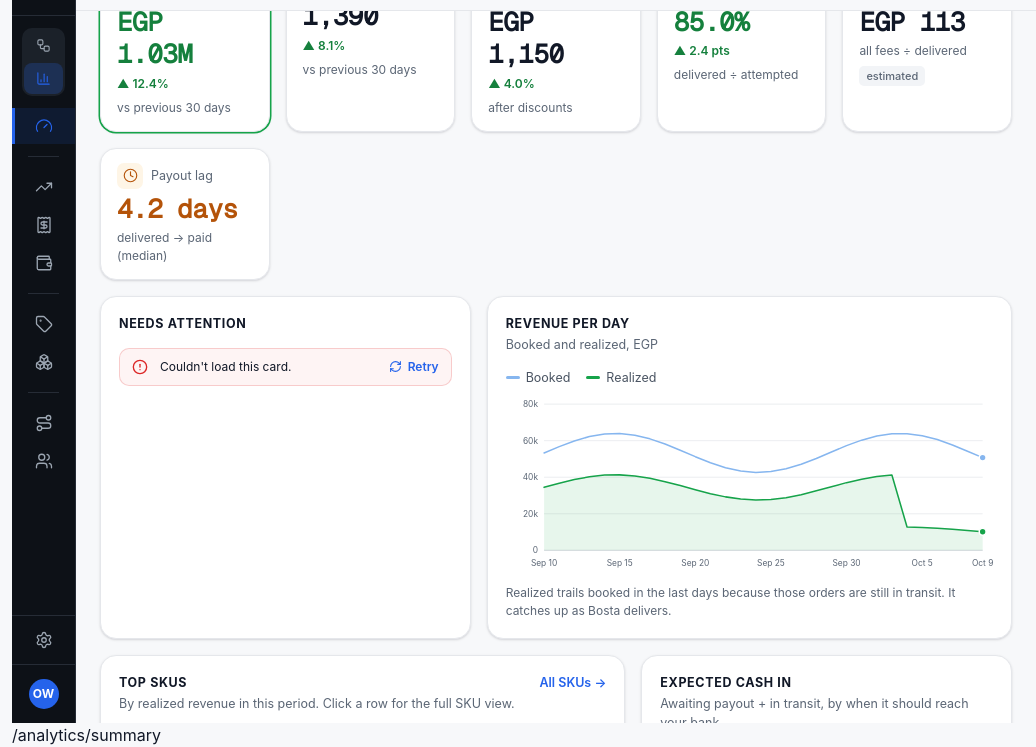
Test: summary — merchant types › m3 — one failing endpoint shows a retry on its own card only; retry recovers it
(page scrolled)
Expected: the message "Couldn't load this card. Retry" is shown, [119,348,452,386]
Click the button "Retry".
click(414, 367)  # box [389,359,439,375]
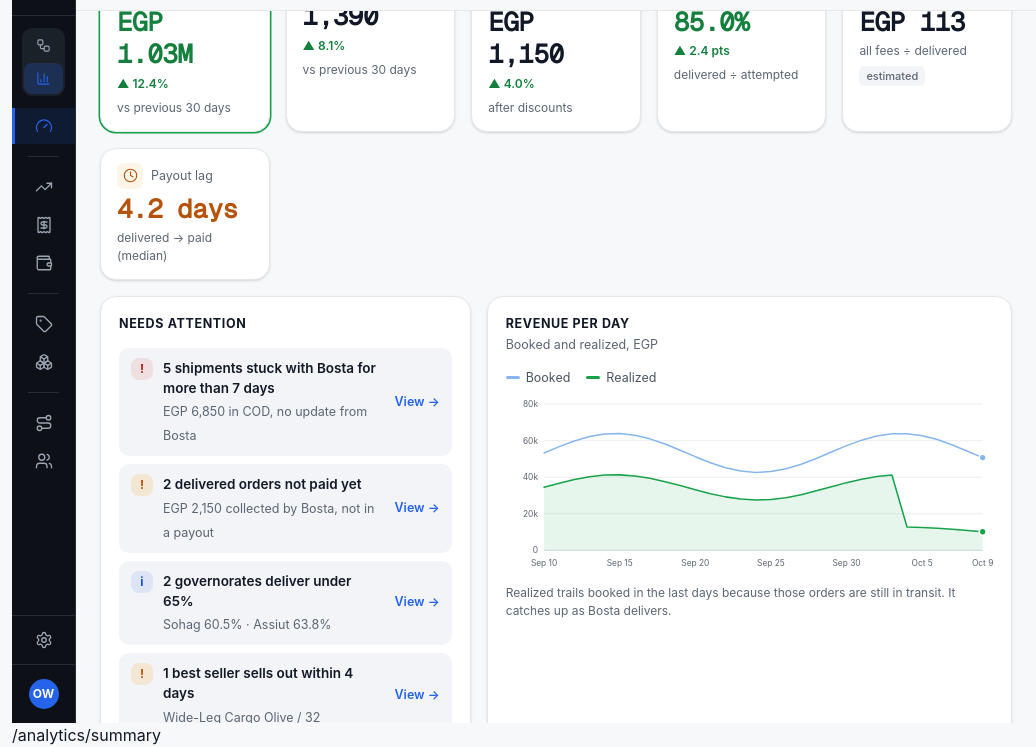
Result: the element with test id "alerts" is shown at [119,348,452,723]
